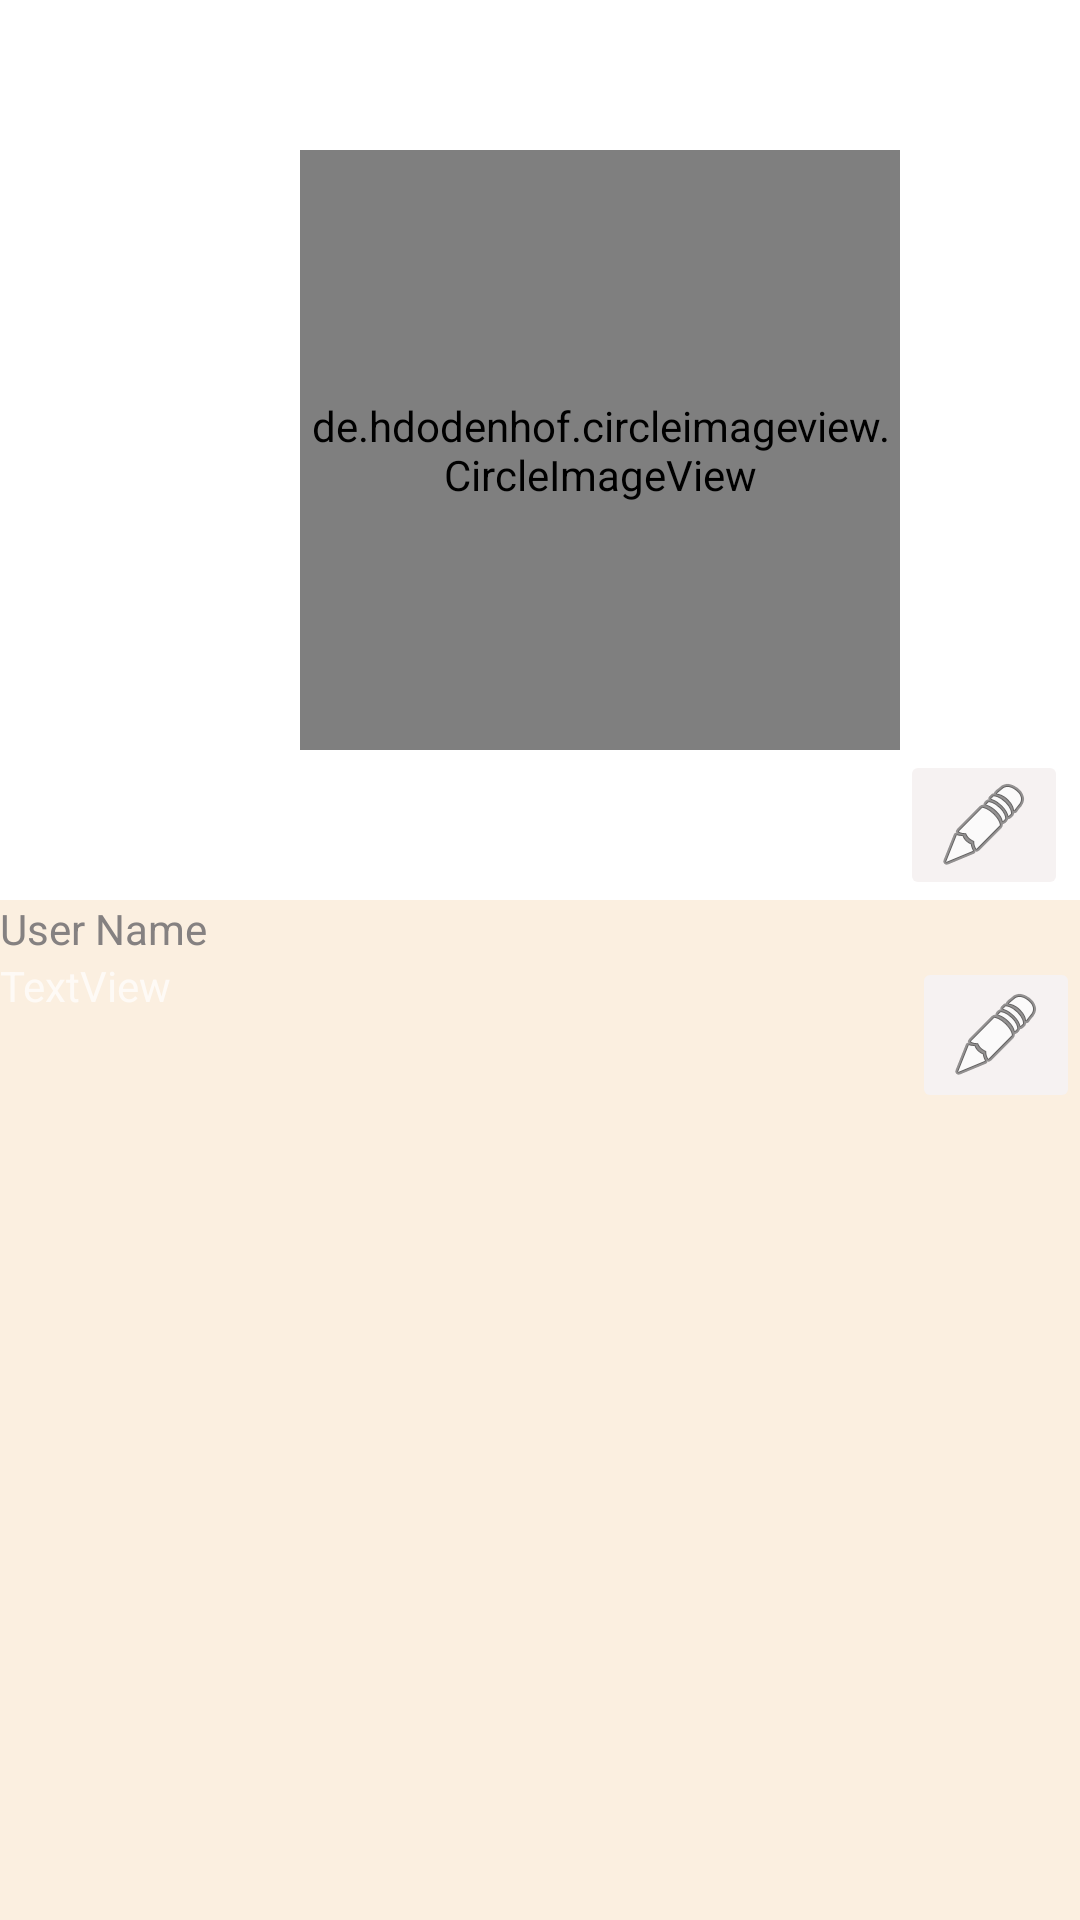

Locate icon controls on the screen. Image size 1080 × 1920, boxes as (x1, y1, x2, y2).
edit: (912, 768, 1056, 882), (924, 975, 1068, 1095)
